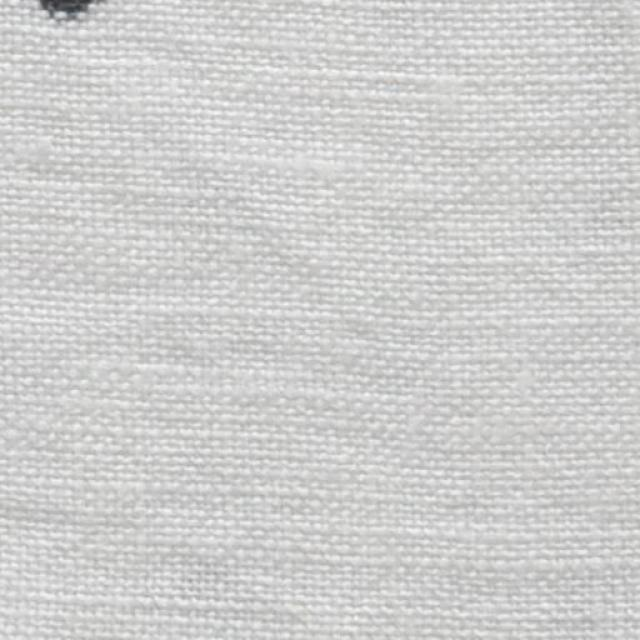Stain: (39, 0, 95, 16)
